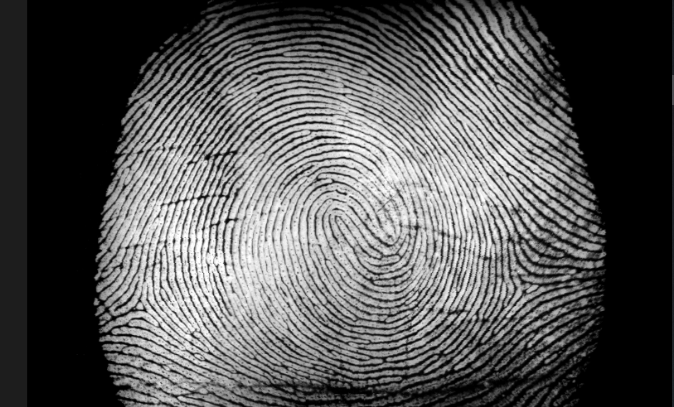deltas: (491, 242, 553, 308), (113, 276, 170, 331)
nucleo: (310, 169, 435, 291)
